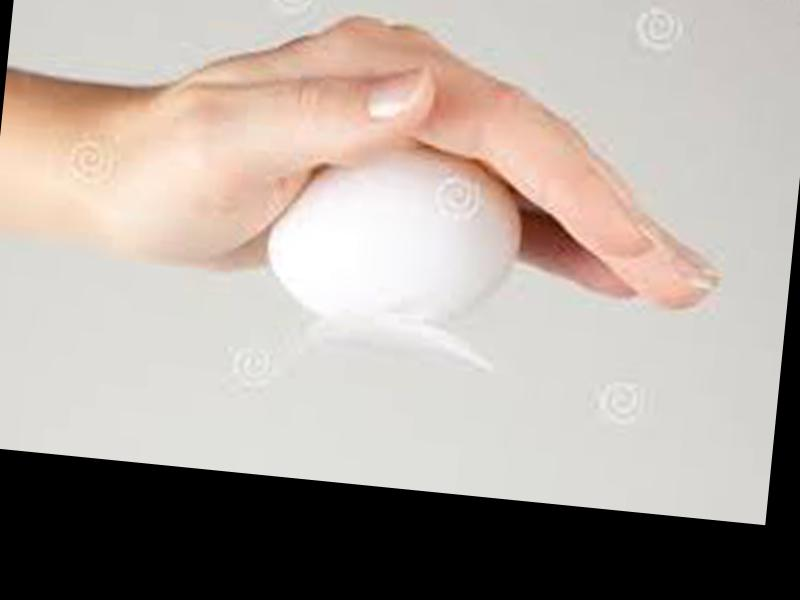Eggs: (259, 135, 532, 334)
